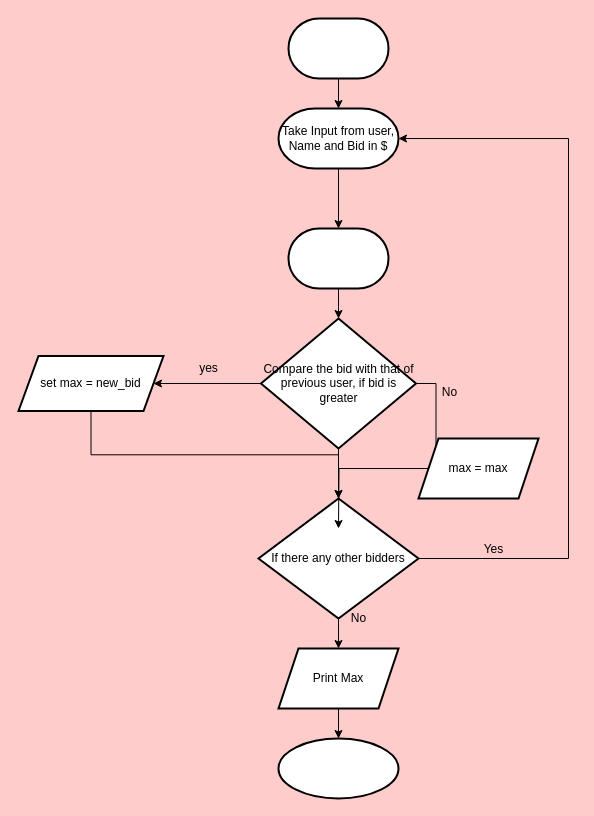
This 594x816 diagram has some shape labels left out. The shapes that lost their labels are listed below. From the top down, each one's box as (x1, y1, x2, y2) in pixels, then its label:
(287, 17, 389, 79): START
(287, 227, 389, 289): Save name and Bid in dict
(277, 737, 399, 799): STOP
